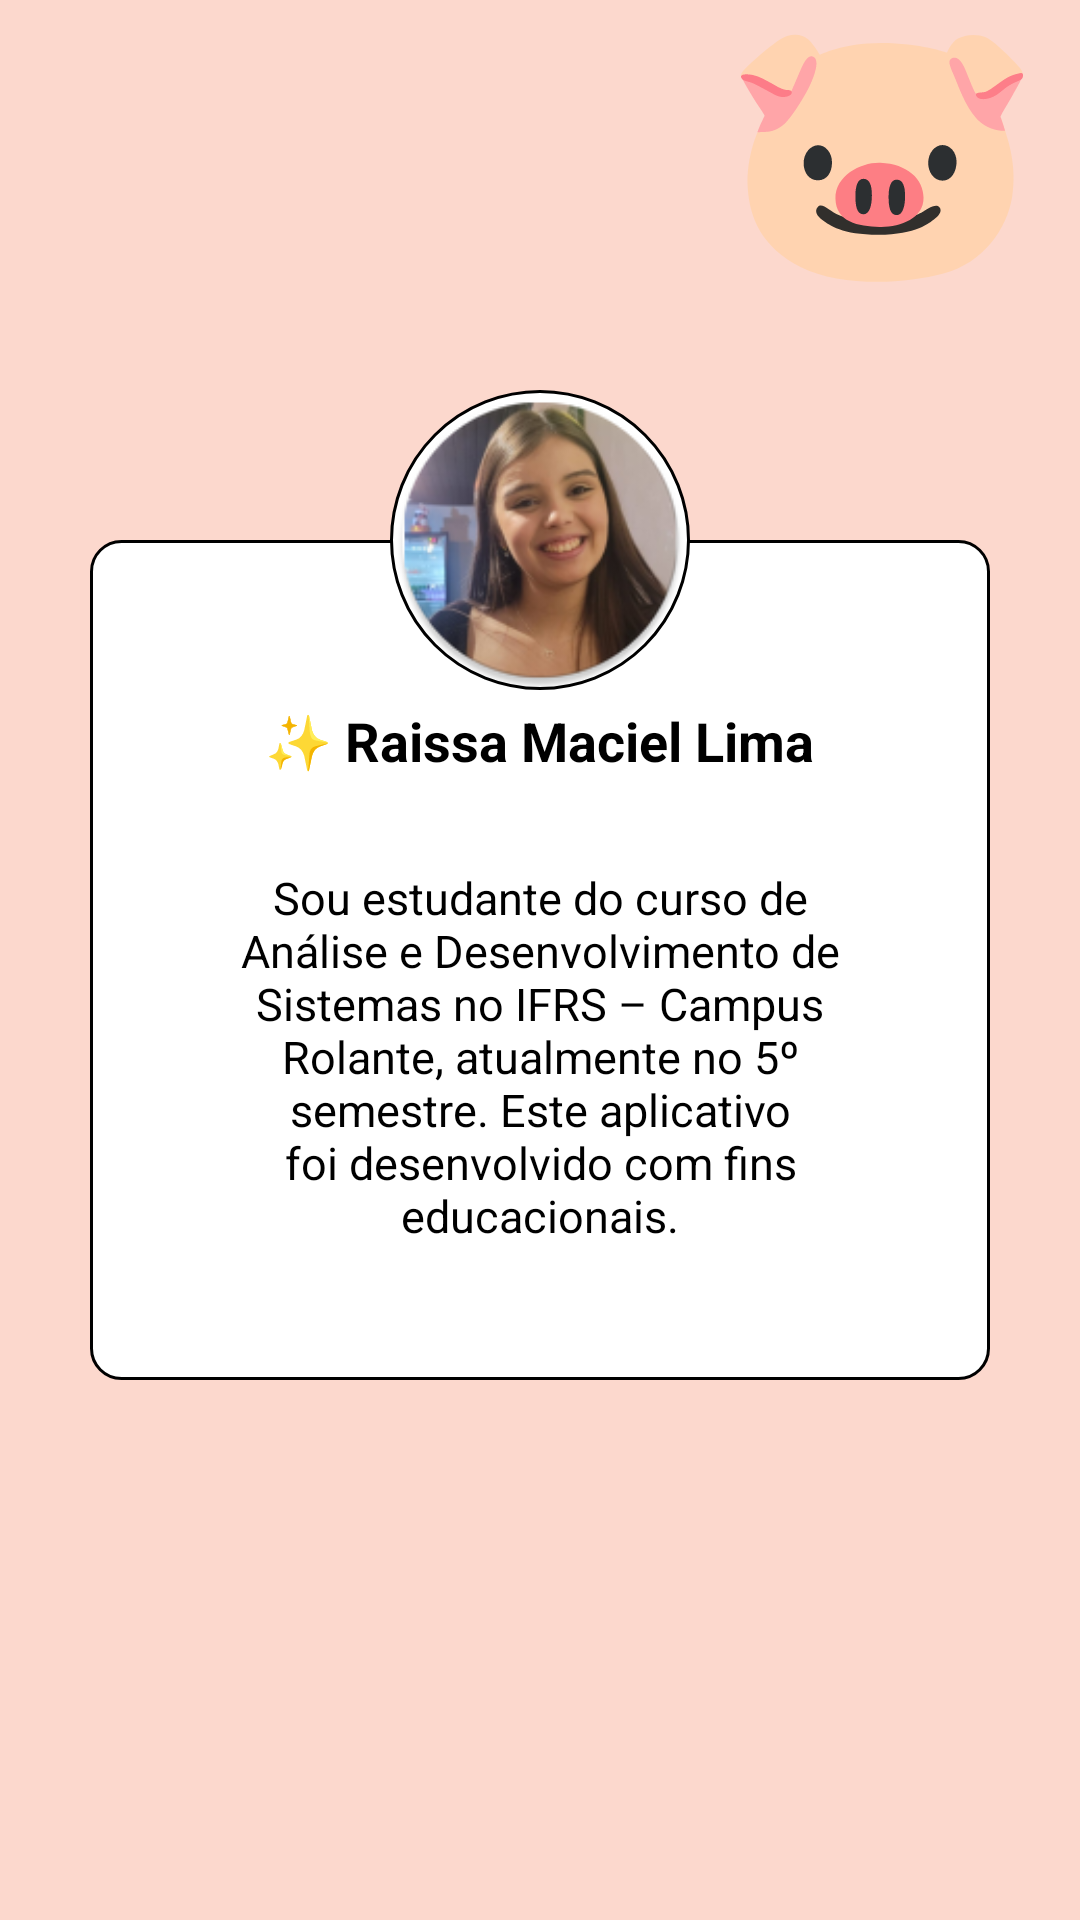

Screen size 1080x1920. Icon name, then its center in pixels as point (x, y):
pig face: point (882, 158)
